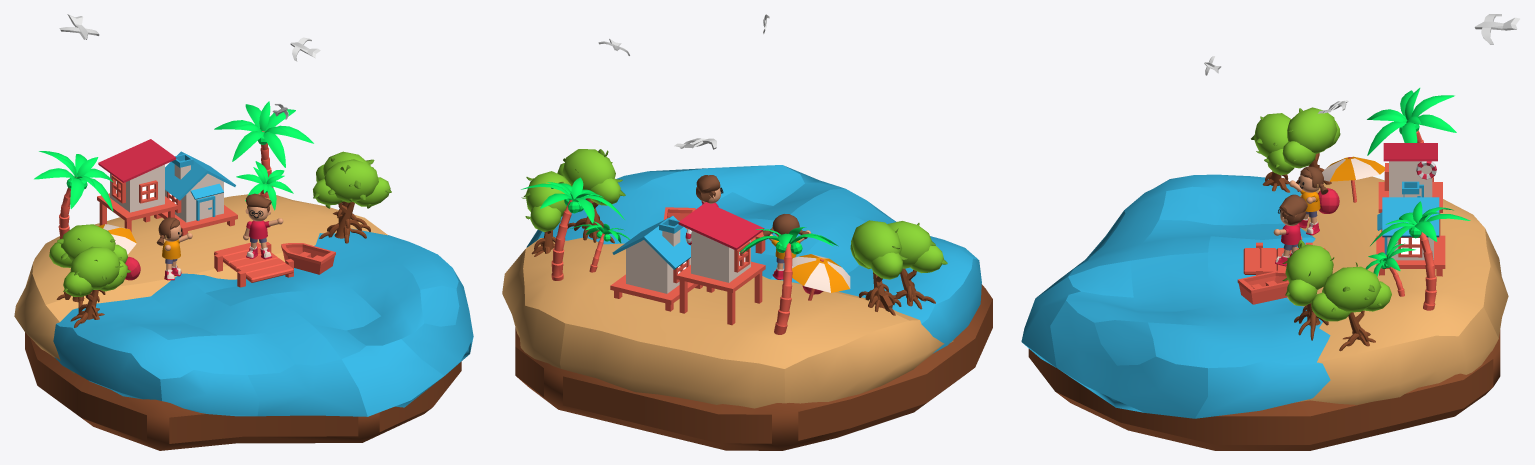
3 views of the same model, side by side, from view 1: azimuth 30°, elevation 25°; view 2: azimuth 150°, elevation 25°; view 3: azimuth 270°, elevation 25° (orthographic). The views are drawn at different scales.
Visible parts, largest first — view 1: Plane.011, Plane.013, Plane.007, Cube.012, Plane.001, Plane.006, Icosphere.012, Cube.016, Icosphere.009, Icosphere.006, Cube.004, Cube.020 (+8 smaller); view 2: Plane.007, Plane.011, Plane.013, Cube.012, Cube.003, Cylinder.003, Icosphere.006, Icosphere.012, Cube.004, Plane.001, Icosphere.009, Cube.010 (+10 smaller); view 3: Plane.011, Plane.007, Plane.013, Plane.006, Cube.012, Icosphere.003, Icosphere.006, Icosphere.012, Cube.004, Plane.001, Cube.020, Icosphere.009 (+9 smaller).
Part boxes in pixels (<box>): Plane.011: <box>53,228,473,416</box>; Plane.013: <box>25,332,461,450</box>; Plane.007: <box>14,193,387,373</box>; Cube.012: <box>98,139,176,212</box>; Plane.001: <box>214,101,313,167</box>; Plane.006: <box>34,151,113,211</box>; Icosphere.012: <box>324,159,378,202</box>; Cube.016: <box>214,242,293,282</box>; Icosphere.009: <box>70,246,120,289</box>; Icosphere.006: <box>61,224,115,260</box>; Cube.004: <box>165,151,235,200</box>; Cube.020: <box>281,243,335,274</box>; Plane.007: <box>502,237,953,408</box>; Plane.011: <box>526,165,981,353</box>; Plane.013: <box>515,284,992,450</box>; Cube.012: <box>678,202,764,282</box>; Cube.003: <box>626,240,690,293</box>; Cylinder.003: <box>792,254,850,292</box>; Icosphere.006: <box>851,220,901,268</box>; Icosphere.012: <box>562,149,615,190</box>; Cube.004: <box>612,216,690,269</box>; Plane.001: <box>521,177,624,223</box>; Icosphere.009: <box>887,221,931,268</box>; Cube.010: <box>676,261,765,292</box>; Plane.011: <box>1021,174,1330,418</box>; Plane.007: <box>1287,176,1508,404</box>; Plane.013: <box>1028,330,1500,450</box>; Plane.006: <box>1367,88,1456,155</box>; Cube.012: <box>1383,143,1437,197</box>; Icosphere.003: <box>1322,266,1381,312</box>; Icosphere.006: <box>1287,107,1337,153</box>; Icosphere.012: <box>1285,244,1333,289</box>; Cube.004: <box>1382,197,1439,237</box>; Plane.001: <box>1370,201,1470,255</box>; Cube.020: <box>1237,271,1289,304</box>; Icosphere.009: <box>1254,113,1291,157</box>.
Size of the model in its own units: 0.4725 by 0.332 by 0.489.
